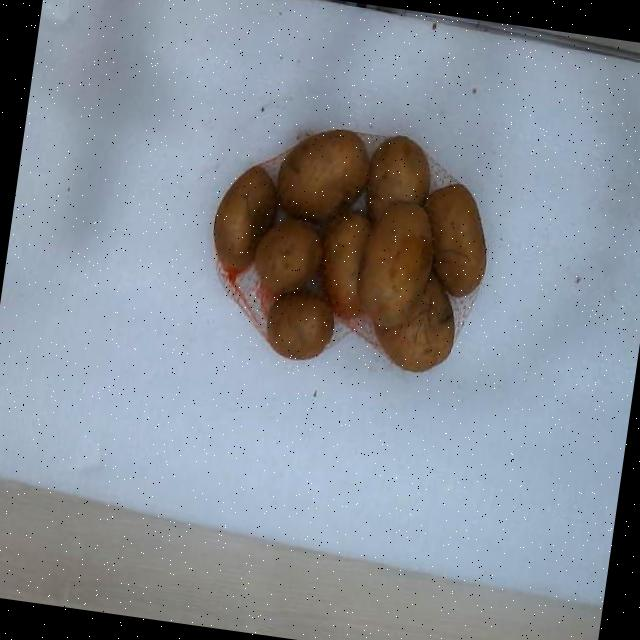potato: (356, 202, 433, 327), (276, 129, 369, 221), (374, 272, 454, 371), (424, 183, 486, 297), (214, 165, 277, 270), (322, 213, 369, 318), (254, 219, 322, 291), (266, 291, 333, 358), (368, 136, 429, 203)
